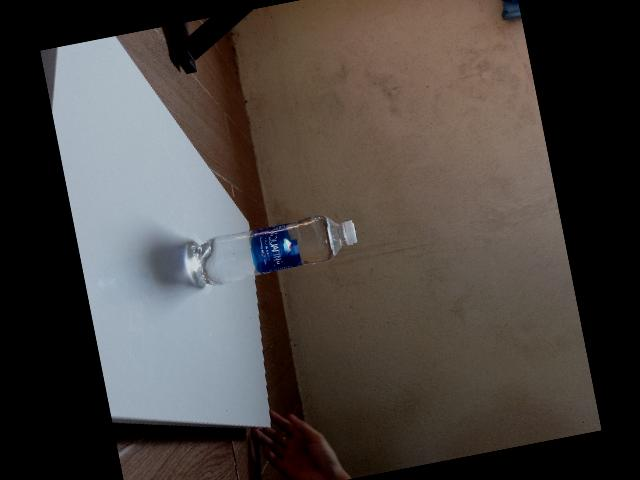aquafina: (190, 215, 356, 285)
